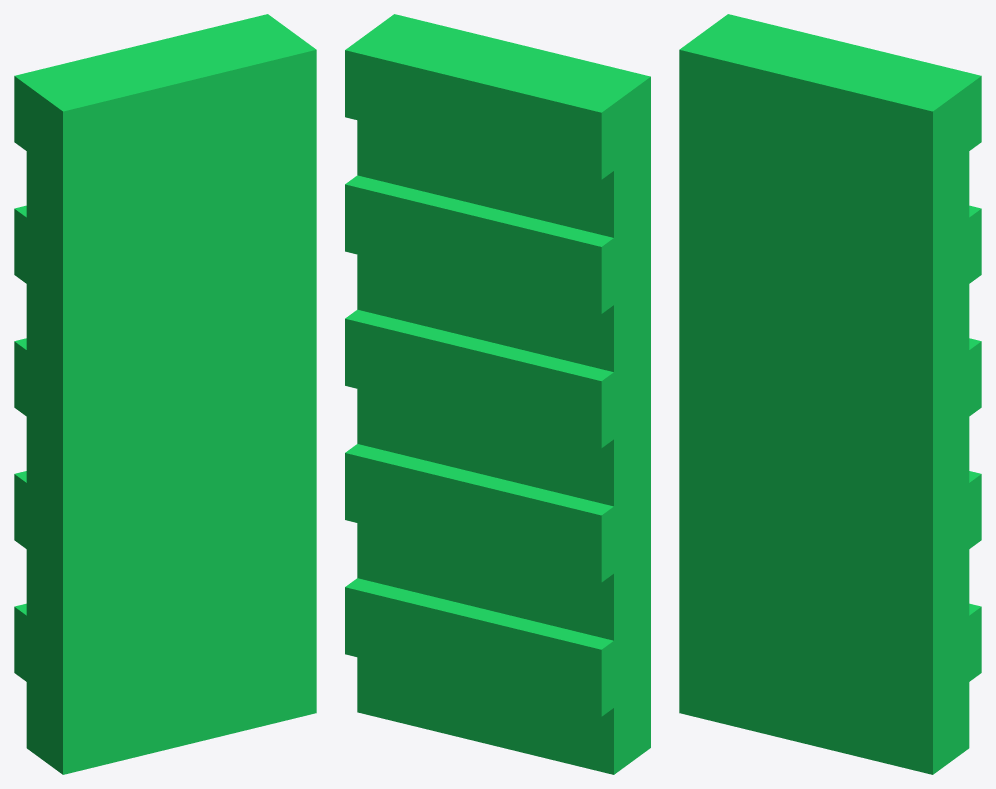
Rendered from SM_wall_side.fbx.
The picture shows the model from 3 angles, left to right: view 1: azimuth 30°, elevation 25°; view 2: azimuth 150°, elevation 25°; view 3: azimuth 330°, elevation 25°; orthographic projection.
Visible parts, largest first — view 1: side_low.001; view 2: side_low.001; view 3: side_low.001.
Part boxes in pixels (bbox=[...]): side_low.001: bbox=[14, 14, 316, 774]; side_low.001: bbox=[345, 14, 650, 774]; side_low.001: bbox=[679, 14, 981, 774].
Bounding box in the file's own units: 120 × 300 × 40.
